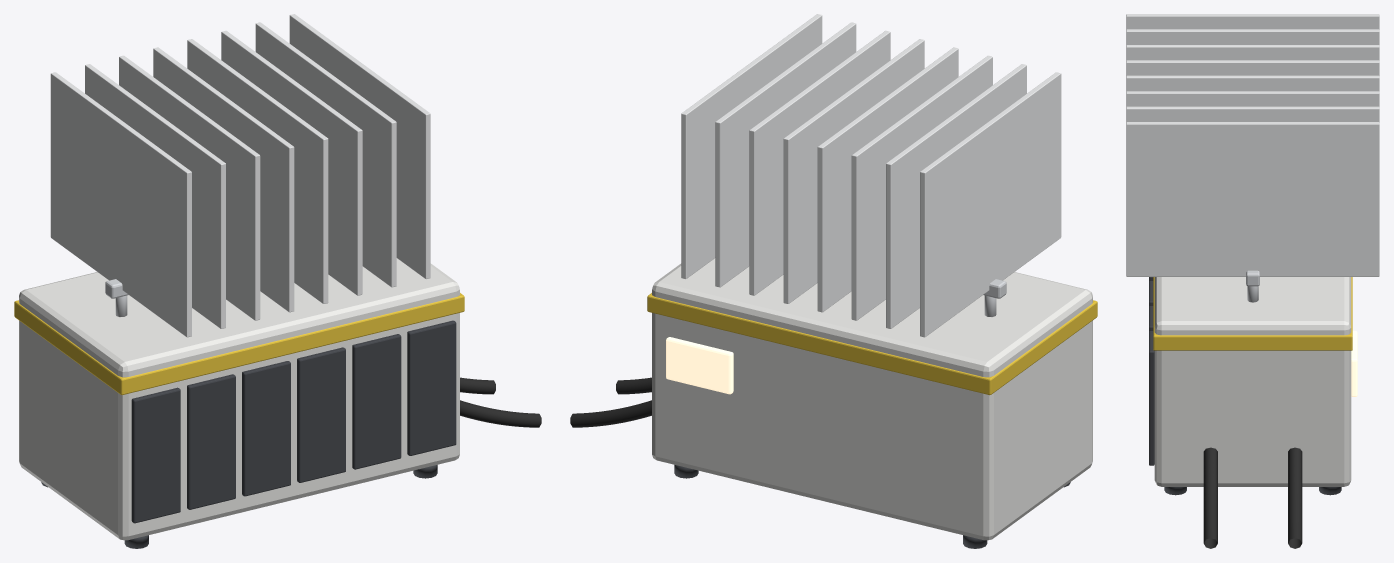
The model's file is power_unit.glb.
3 views of the same model, side by side, from view 1: azimuth 30°, elevation 25°; view 2: azimuth 150°, elevation 25°; view 3: azimuth 270°, elevation 25° (orthographic). The views are drawn at different scales.
Visible parts, largest first — view 1: power_unit; view 2: power_unit; view 3: power_unit.
Part boxes in pixels (x1,y1,x2,y2): power_unit: (14,14,541,548); power_unit: (570,14,1097,548); power_unit: (1126,14,1379,548).
Size of the model in its own units: 3.42 by 2.8 by 1.8.
